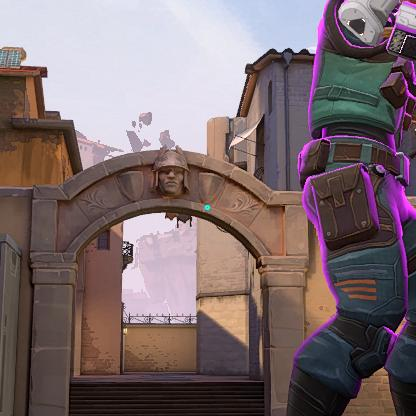enemyBody: (336, 14, 406, 137)
